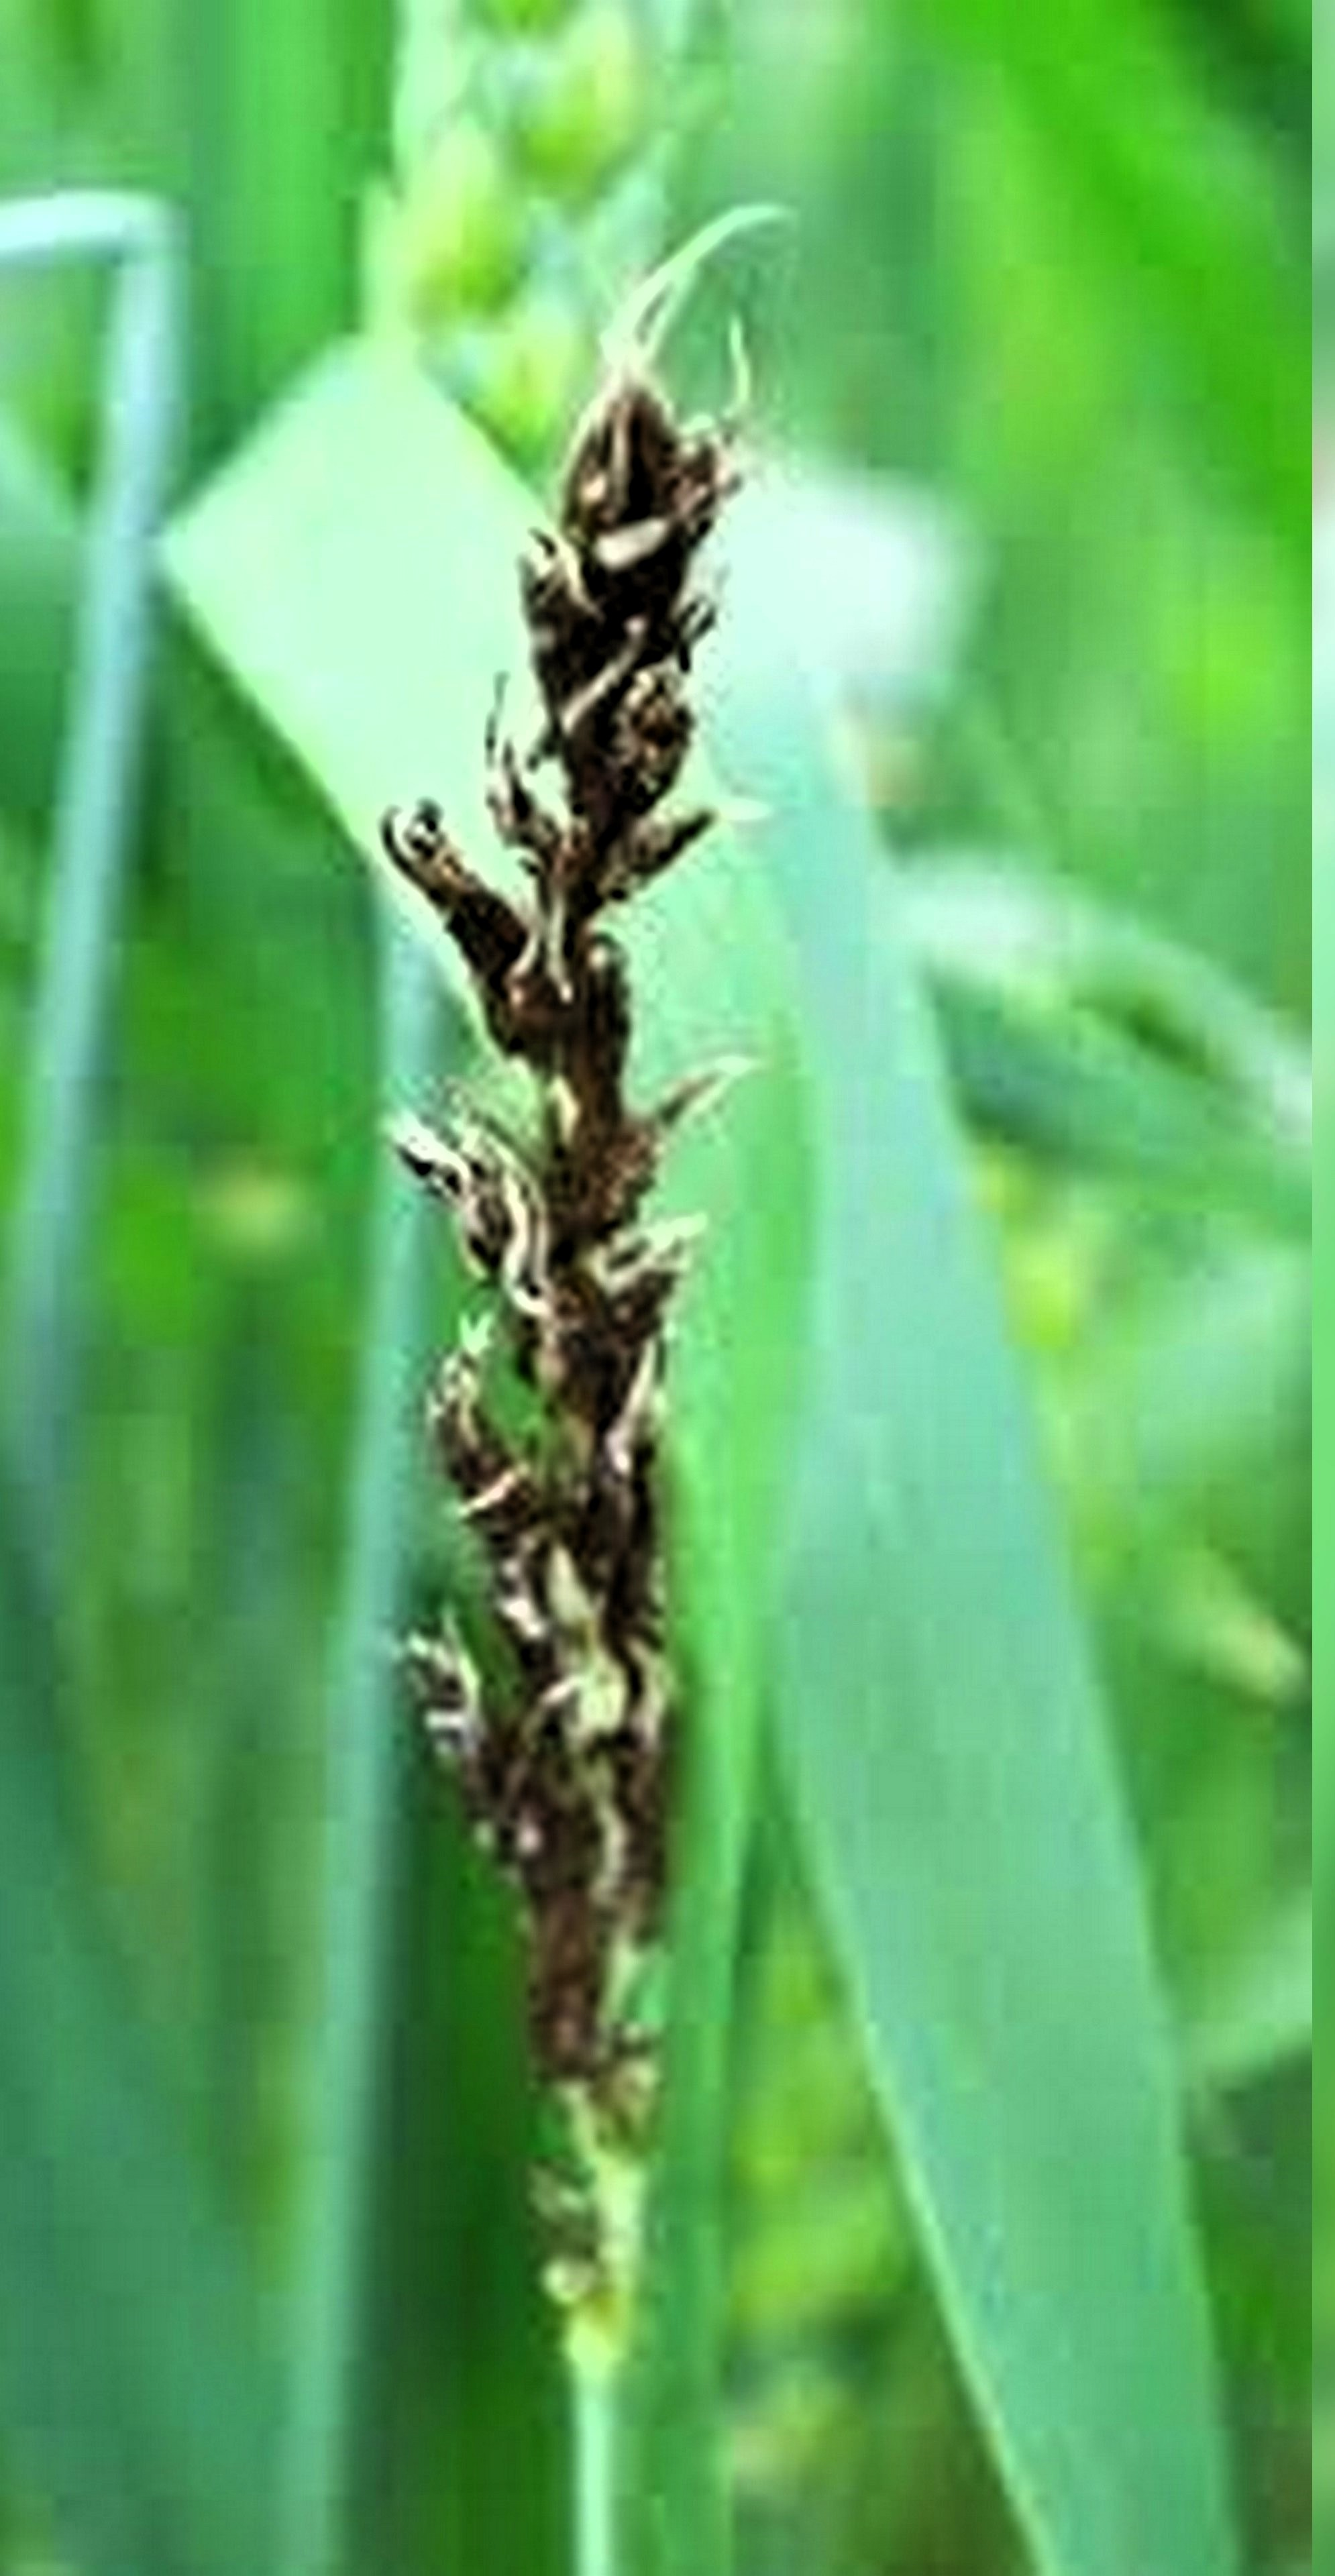Wheat Loose Smut: (334, 354, 795, 1994)
